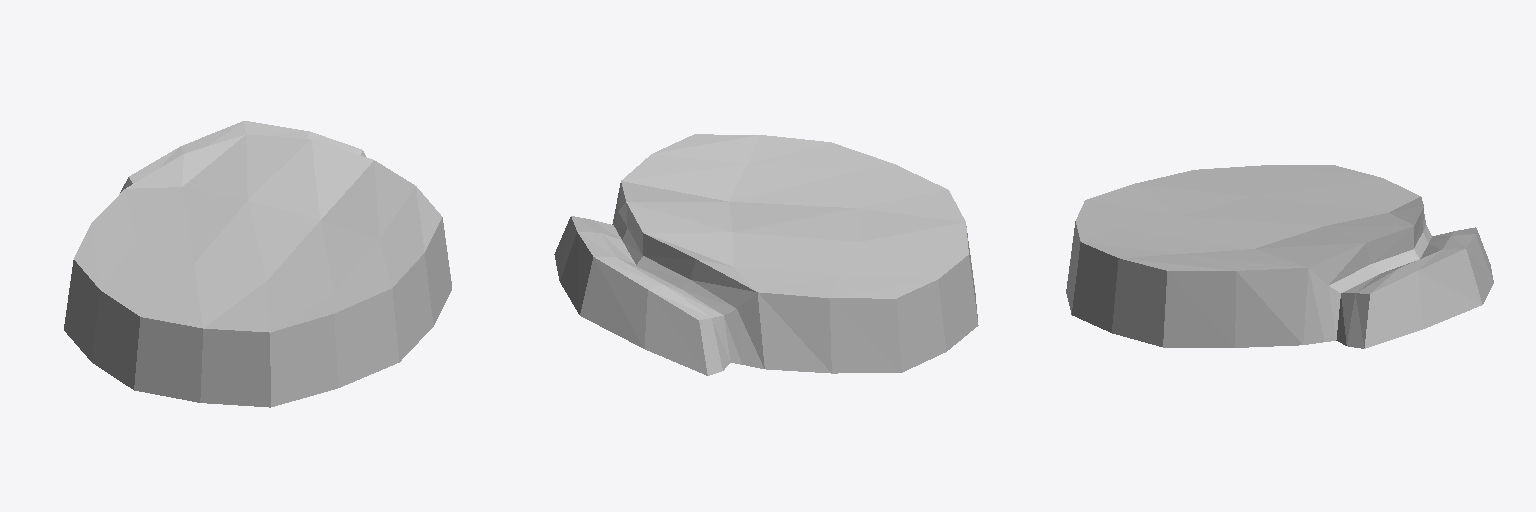
File: slice_10.obj
3 renders of one model, left to right at view 1: azimuth 30°, elevation 25°; view 2: azimuth 150°, elevation 25°; view 3: azimuth 270°, elevation 25°, orthographic.
Visible parts, largest first — view 1: Mushroom.011_Cube.020; view 2: Mushroom.011_Cube.020; view 3: Mushroom.011_Cube.020.
Part boxes in pixels (left/top/right/bottom): Mushroom.011_Cube.020: left=64, top=121, right=451, bottom=407; Mushroom.011_Cube.020: left=554, top=134, right=978, bottom=375; Mushroom.011_Cube.020: left=1066, top=165, right=1493, bottom=348.
Bounding box in the file's own units: 0.6847 × 0.2347 × 0.7401.